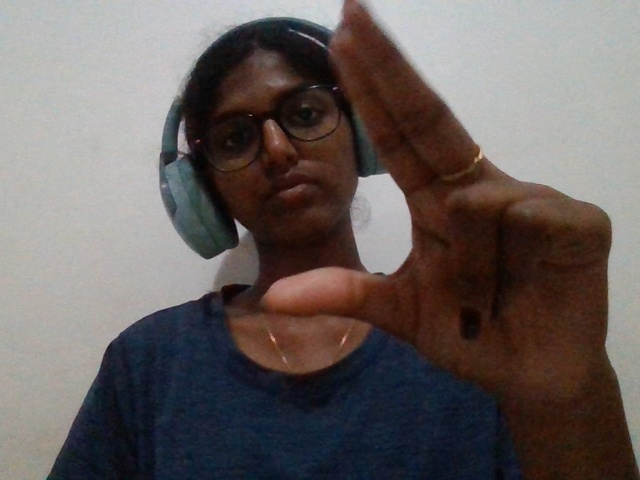No: (225, 10, 640, 460)
